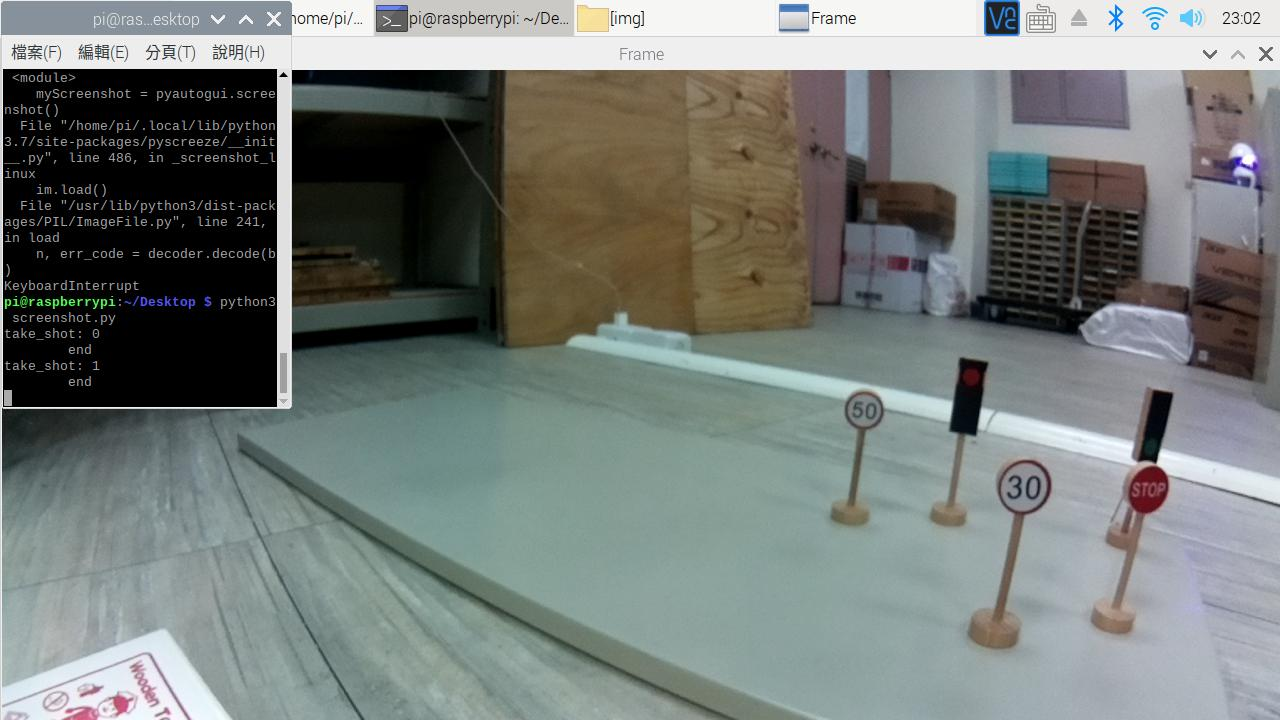Green: (1148, 383, 1162, 465)
Red: (958, 352, 976, 436)
Speed30: (1001, 457, 1048, 513)
Speed50: (848, 387, 880, 430)
Stop: (1128, 466, 1172, 512)
